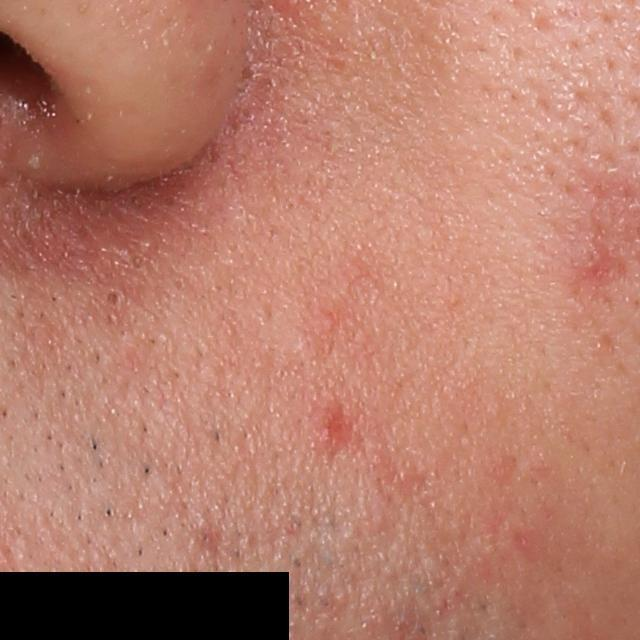comedo: (102, 281, 127, 314)
papule: (303, 402, 362, 450), (570, 239, 611, 274)
